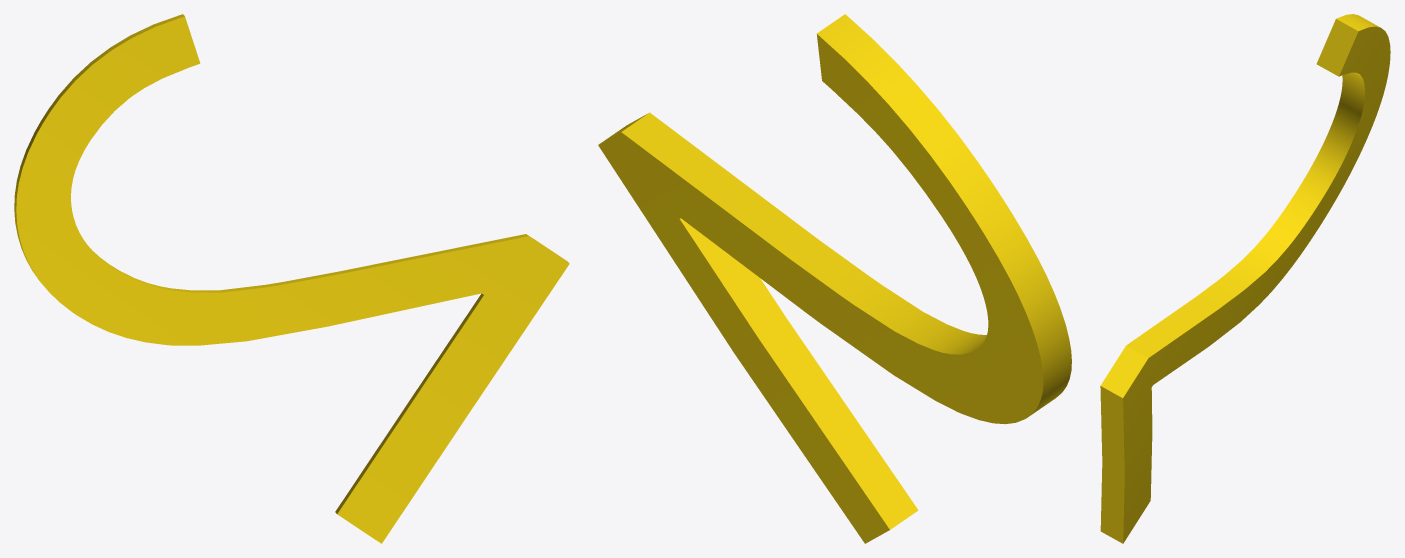
File: Number_2.gltf
3 views of the same model, side by side, from view 1: azimuth 30°, elevation 25°; view 2: azimuth 150°, elevation 25°; view 3: azimuth 270°, elevation 25° (orthographic). The views are drawn at different scales.
Parts seen in each view (by area): view 1: Sub_7_Cell_1_3_Number_2; view 2: Sub_7_Cell_1_3_Number_2; view 3: Sub_7_Cell_1_3_Number_2.
Part boxes in pixels (x1=…): Sub_7_Cell_1_3_Number_2: x1=14, y1=14, x2=569, y2=543; Sub_7_Cell_1_3_Number_2: x1=598, y1=14, x2=1071, y2=543; Sub_7_Cell_1_3_Number_2: x1=1100, y1=14, x2=1390, y2=543.
Size of the model in its own units: 0.0249 by 0.0255 by 0.0139.
